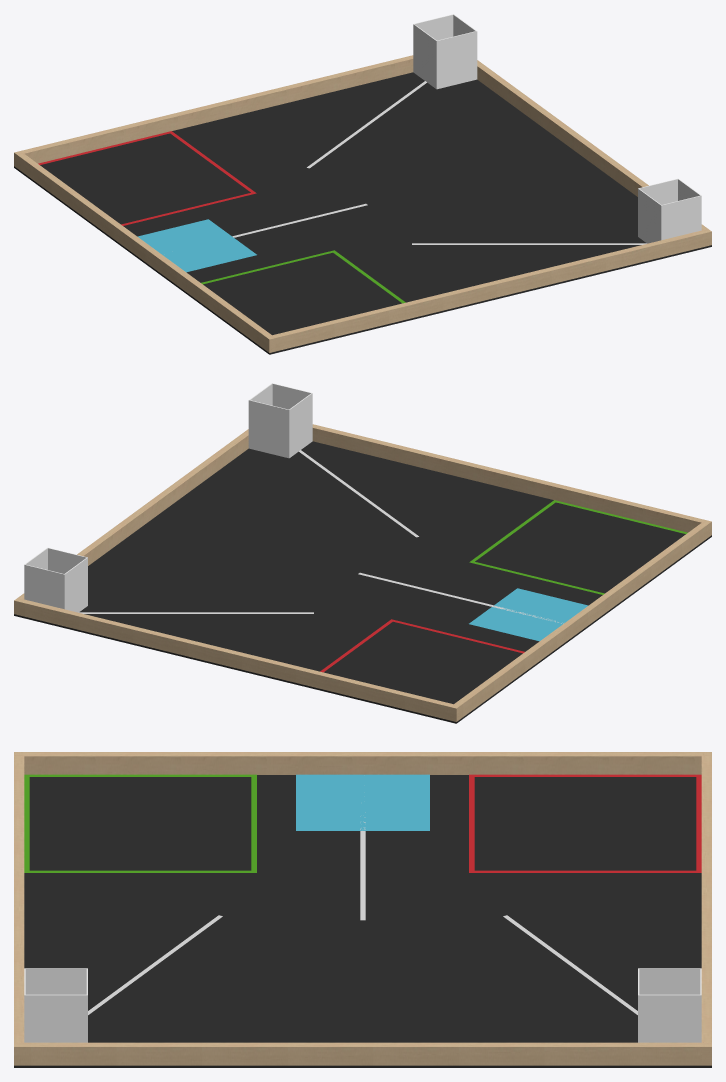
The model's file is arena.dae.
3 renders of one model, top to bottom at view 1: azimuth 30°, elevation 25°; view 2: azimuth 150°, elevation 25°; view 3: azimuth 270°, elevation 25°, orthographic. The views are drawn at different scales.
Visible parts, largest first — view 1: Base, Side_Front_001, Side_Front_002, Side_Front, Bucket_Left, Start_Area, Bucket_Right, Side_Front_003, Red_Area, Green_Area; view 2: Base, Side_Front_002, Side_Front_001, Side_Front, Bucket_Right, Side_Front_003, Start_Area, Bucket_Left, Green_Area, Red_Area; view 3: Base, Side_Front_003, Side_Front, Start_Area, Bucket_Right, Bucket_Left, Side_Front_002, Side_Front_001, Red_Area, Green_Area, Left_Line, Right_Line (+1 smaller).
Part boxes in pixels (x1,y1,x2,y2): Base: (14,72,711,354); Side_Front_001: (266,229,711,352); Side_Front_002: (14,55,413,167); Side_Front: (14,151,275,352); Bucket_Left: (413,14,477,89); Start_Area: (137,219,256,272); Bucket_Right: (638,178,701,243); Side_Front_003: (477,60,707,236); Red_Area: (38,131,256,225); Green_Area: (201,250,405,303); Base: (14,441,711,723); Side_Front_002: (14,598,460,721); Side_Front_001: (312,424,709,536); Side_Front: (450,520,711,721); Bucket_Right: (248,383,312,458); Side_Front_003: (14,429,248,615); Start_Area: (469,588,588,641); Bucket_Left: (24,547,87,612); Green_Area: (469,500,687,594); Red_Area: (320,619,524,672); Base: (14,775,711,1067); Side_Front_003: (14,1042,711,1065); Side_Front: (14,752,711,774); Start_Area: (296,774,429,830); Bucket_Right: (24,968,87,1042); Bucket_Left: (638,968,701,1042); Side_Front_002: (701,752,711,1065); Side_Front_001: (14,752,24,1042); Red_Area: (469,774,701,872); Green_Area: (24,774,256,872); Left_Line: (503,915,637,1014); Right_Line: (88,915,222,1014).
Size of the model in its own units: 2.4 by 2.4 by 0.259.
